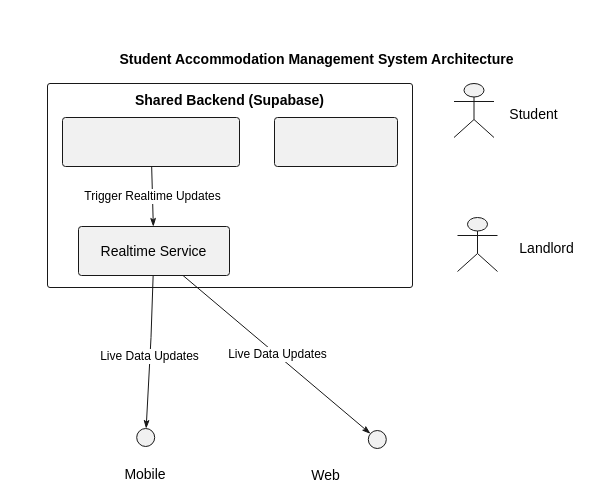
Image size: 595x501. Some labels were removed from this diagram. Each missing label, with the centre of its shape:
Auth Service: the point at 336,141
PostgreSQL Database: the point at 151,141
